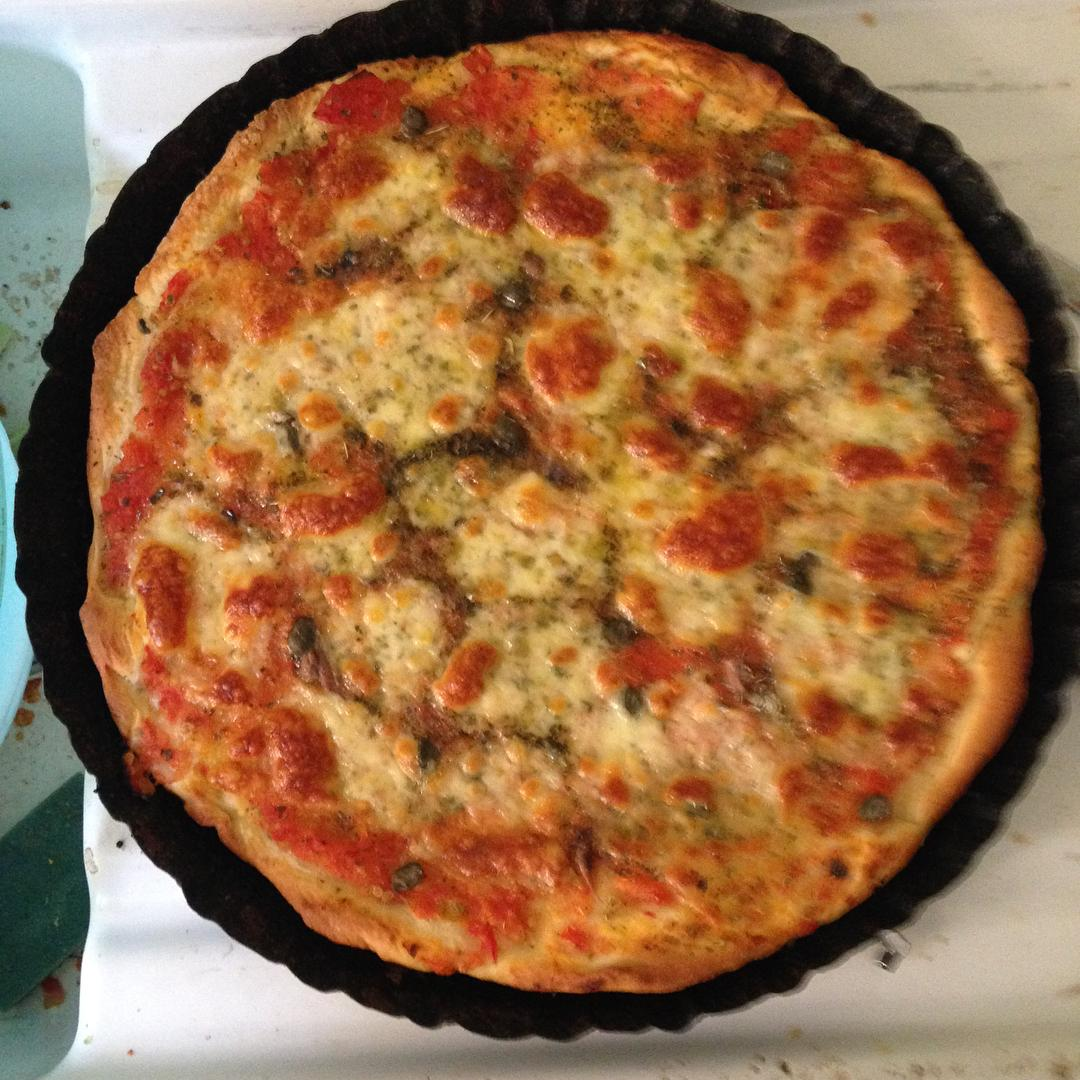Cheese: (324, 316, 468, 419), (456, 505, 598, 601), (794, 348, 934, 443), (379, 768, 629, 819), (778, 602, 908, 693), (605, 203, 684, 347), (490, 622, 594, 724), (791, 478, 941, 530), (363, 596, 439, 697)
Pizza: (80, 42, 1040, 997)
